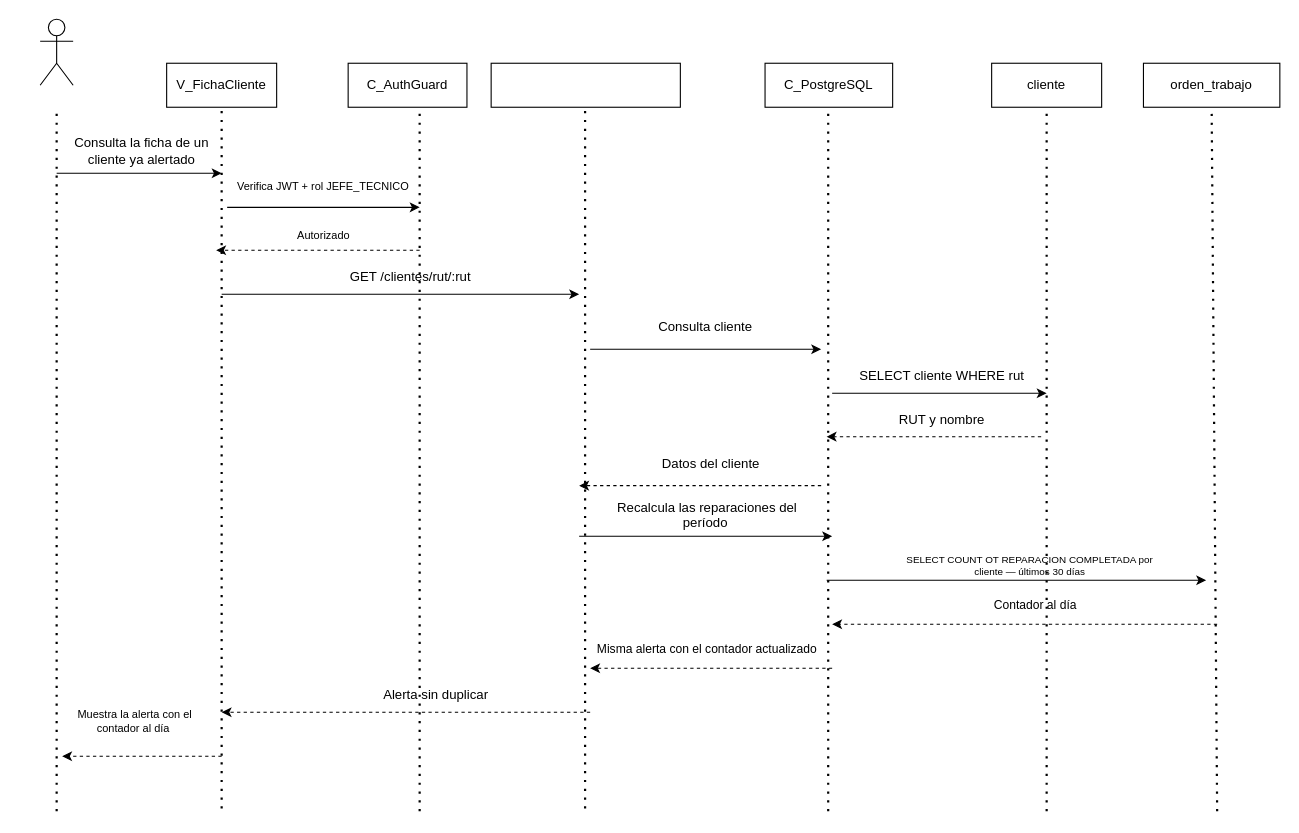
The diagram is 1299 pixels wide and 833 high, and some of its shapes have lost their labels. The box of each missing label's shape, as (x1, y1, x2, y2) in pixels:
C_ClienteController: (490, 62, 680, 107)
Jefe Técnico: (39, 18, 73, 85)
